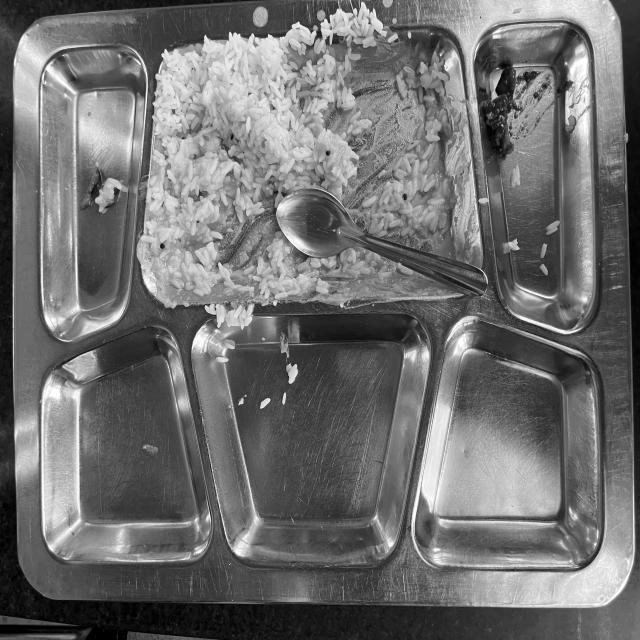20-Food-Left: (37, 24, 604, 595)
